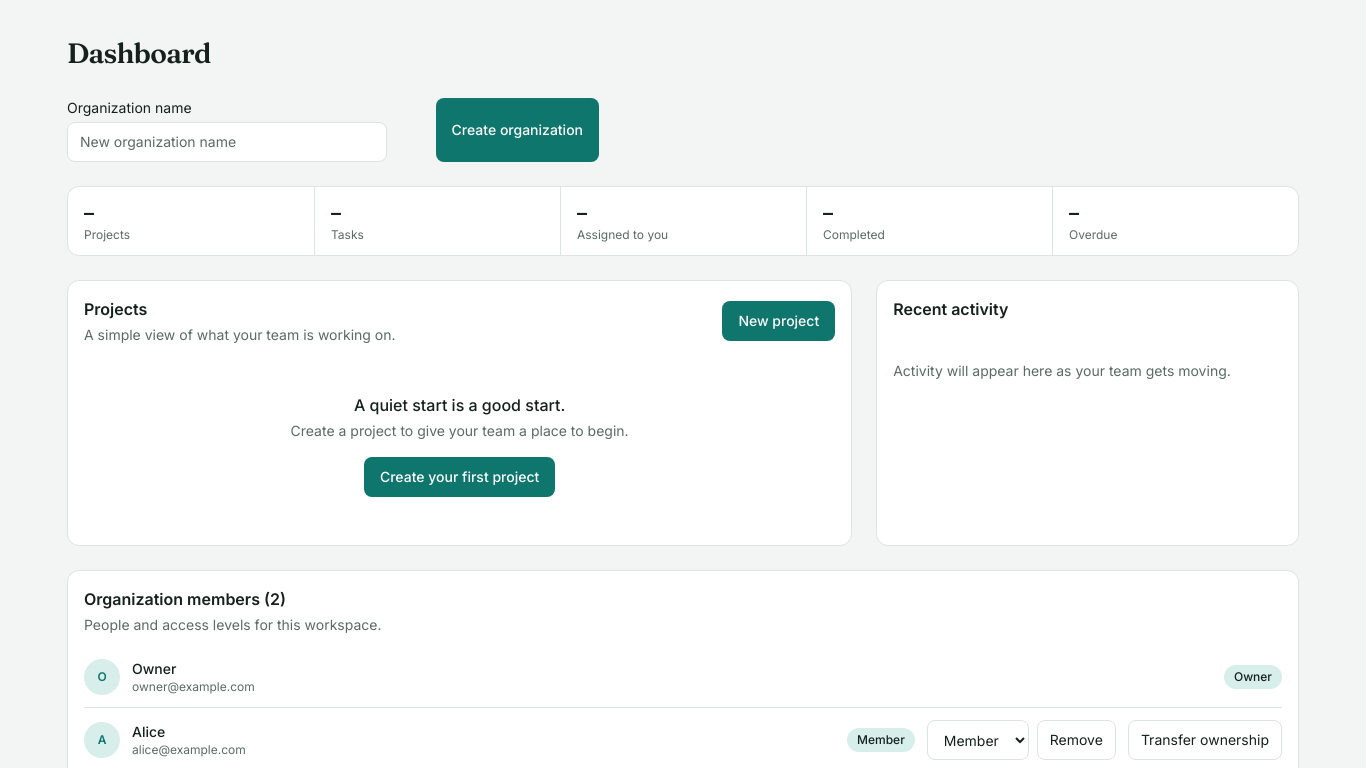
Scenario: transfer ownership › shows confirmation dialog naming the new owner
The image size is (1366, 768).
Click the button with aria-label "Transfer ownership to Alice" at {"x": 1205, "y": 740}, box [1128, 720, 1282, 760]
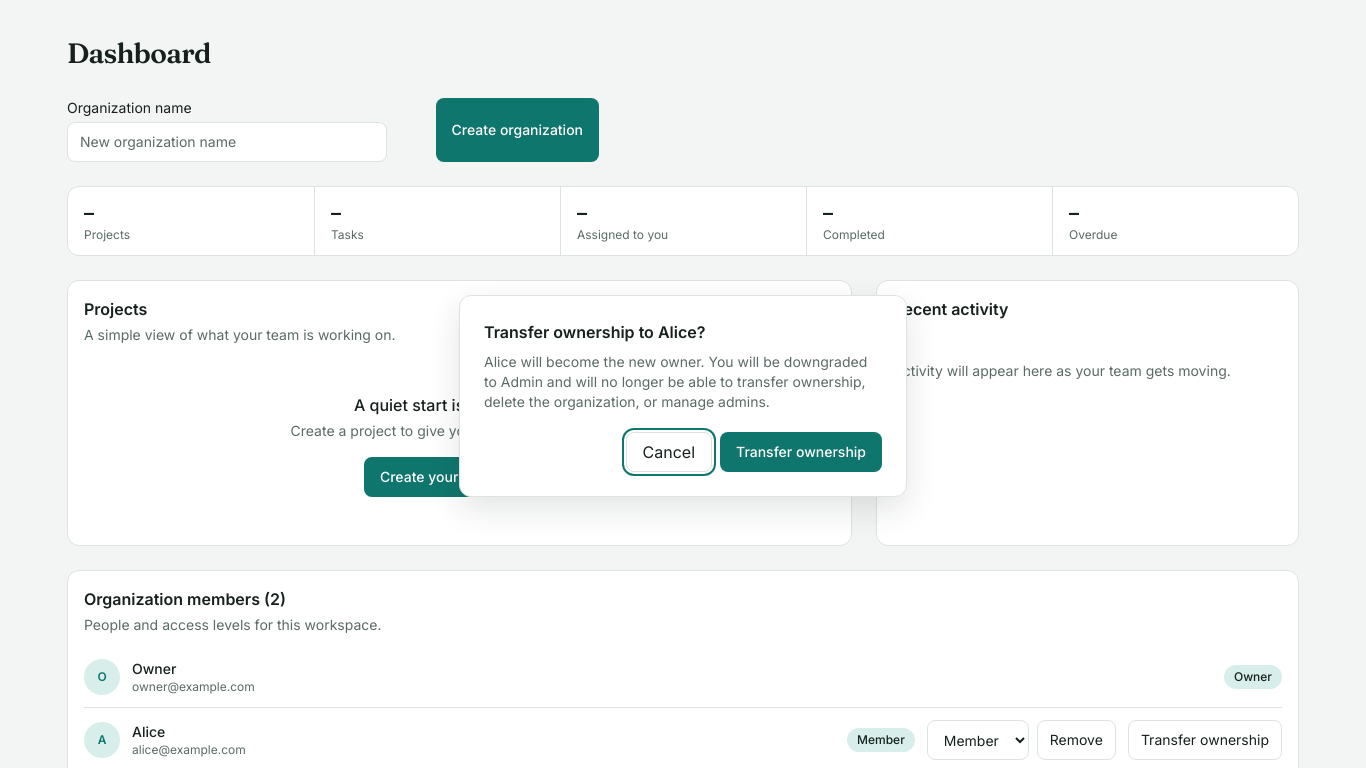
Expected: the dialog "Transfer ownership to Alice?" is shown, [459, 295, 907, 497]
Expected: the text "downgraded to Admin" is shown, [484, 353, 867, 410]
